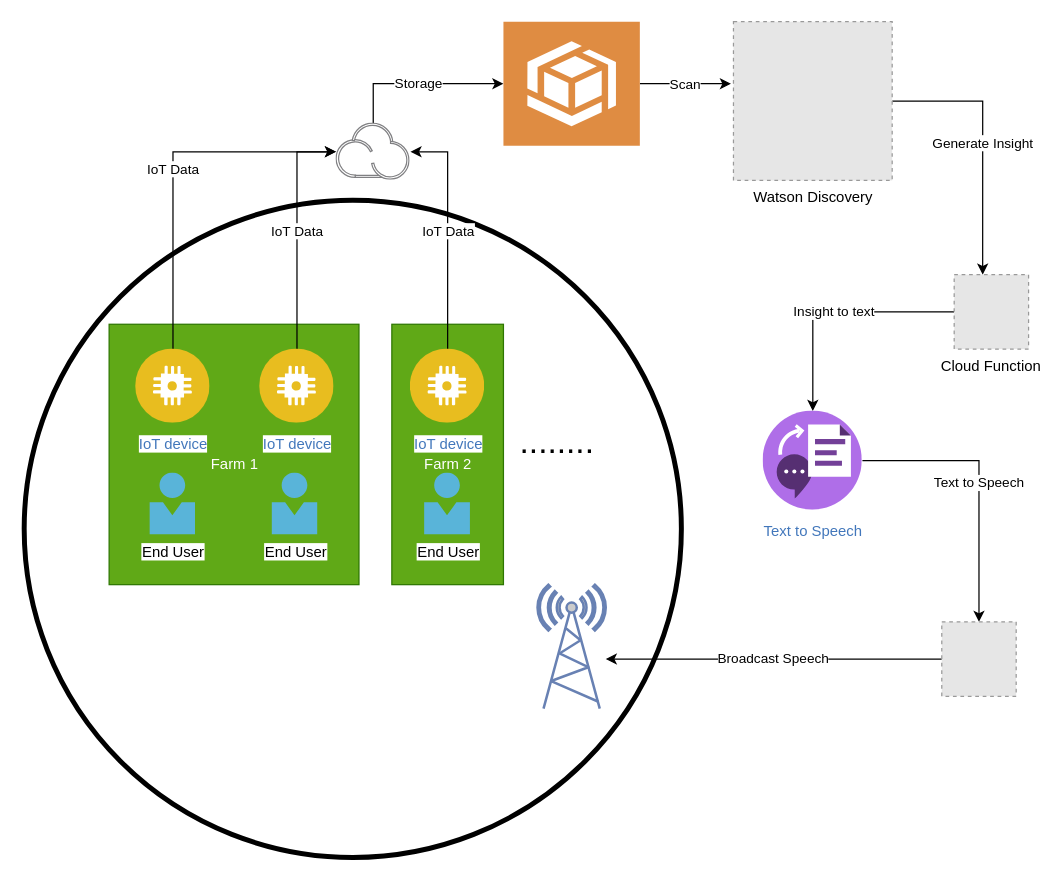
The diagram is 1063 pixels wide and 882 high, and some of its shapes have lost their labels. Grey dashed boxes stand in for pictures. The shapes that lost their labels are listed below. From the top down, each one's centre as x and y in pixels, then its label:
the point at 571,83: Cloud Object Storage
the point at 372,151: IoT Cloud
the point at 571,646: PSA
